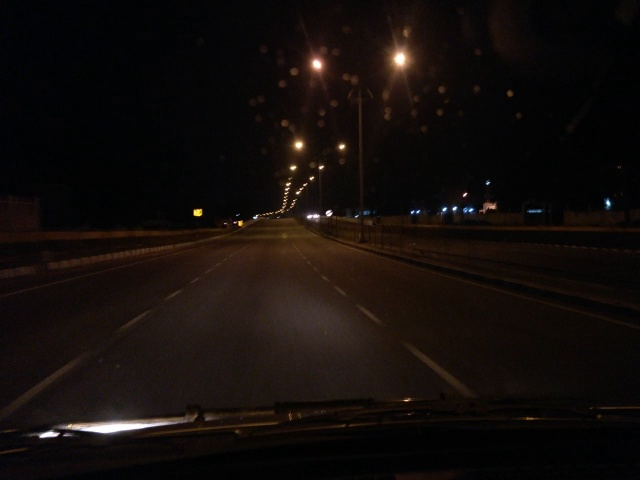car: (305, 212, 324, 218)
